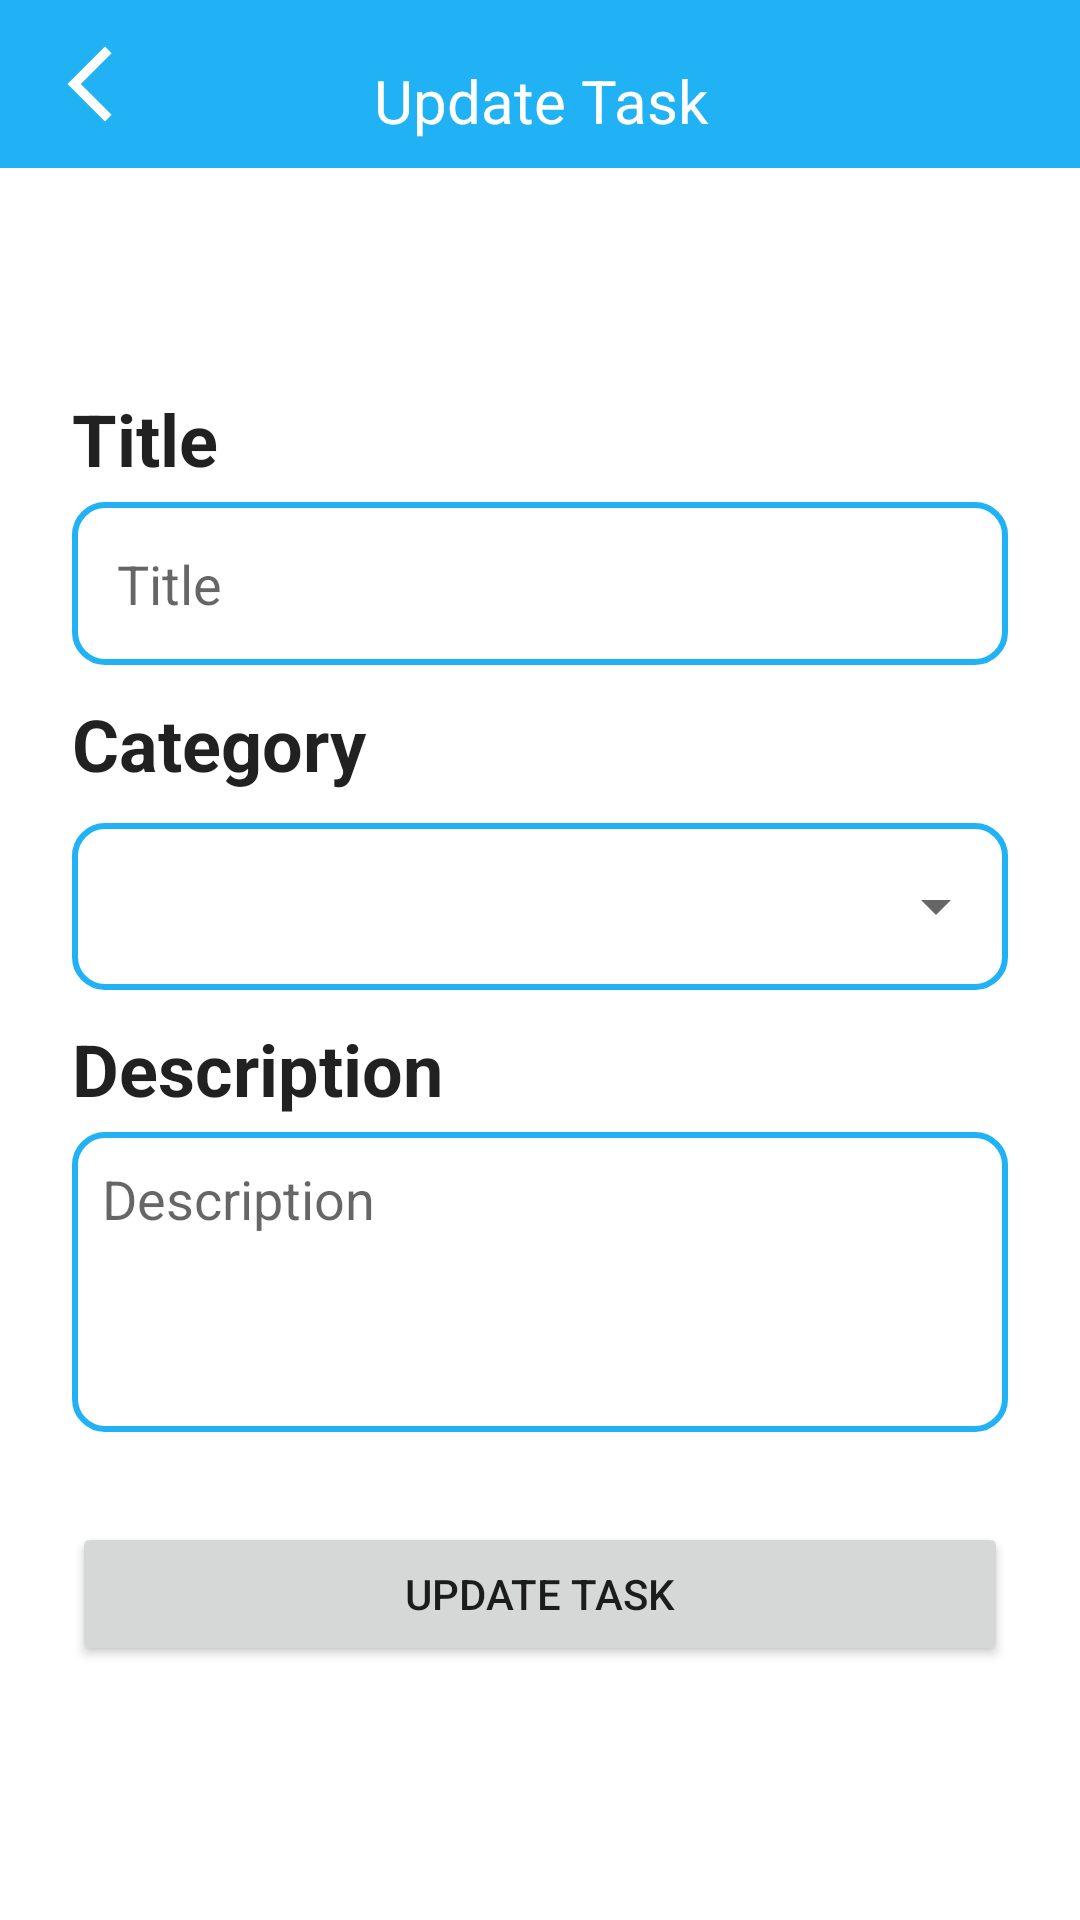

Icons on this 1080w x 1920h Android screen, each with its box as (x1, y1, x2, y2):
back: (67, 46, 112, 122)
